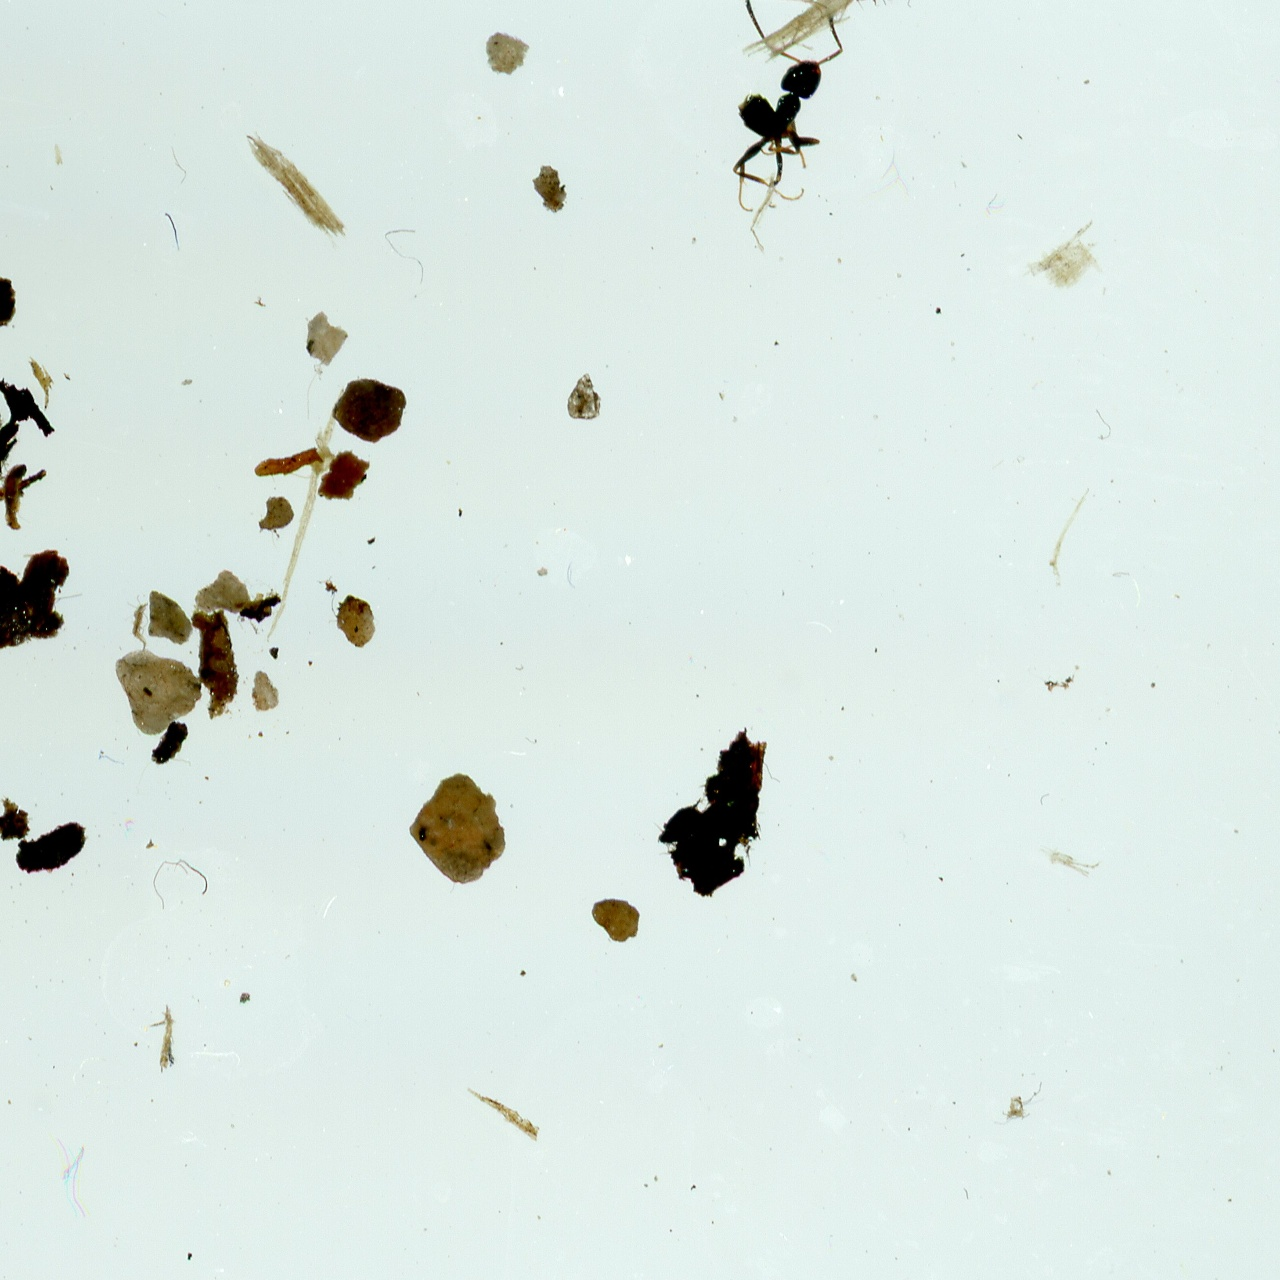arthropod: (729, 0, 846, 217)
